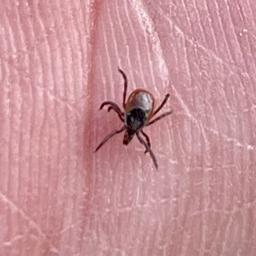Ixodes scapularis: (92, 68, 174, 170)
